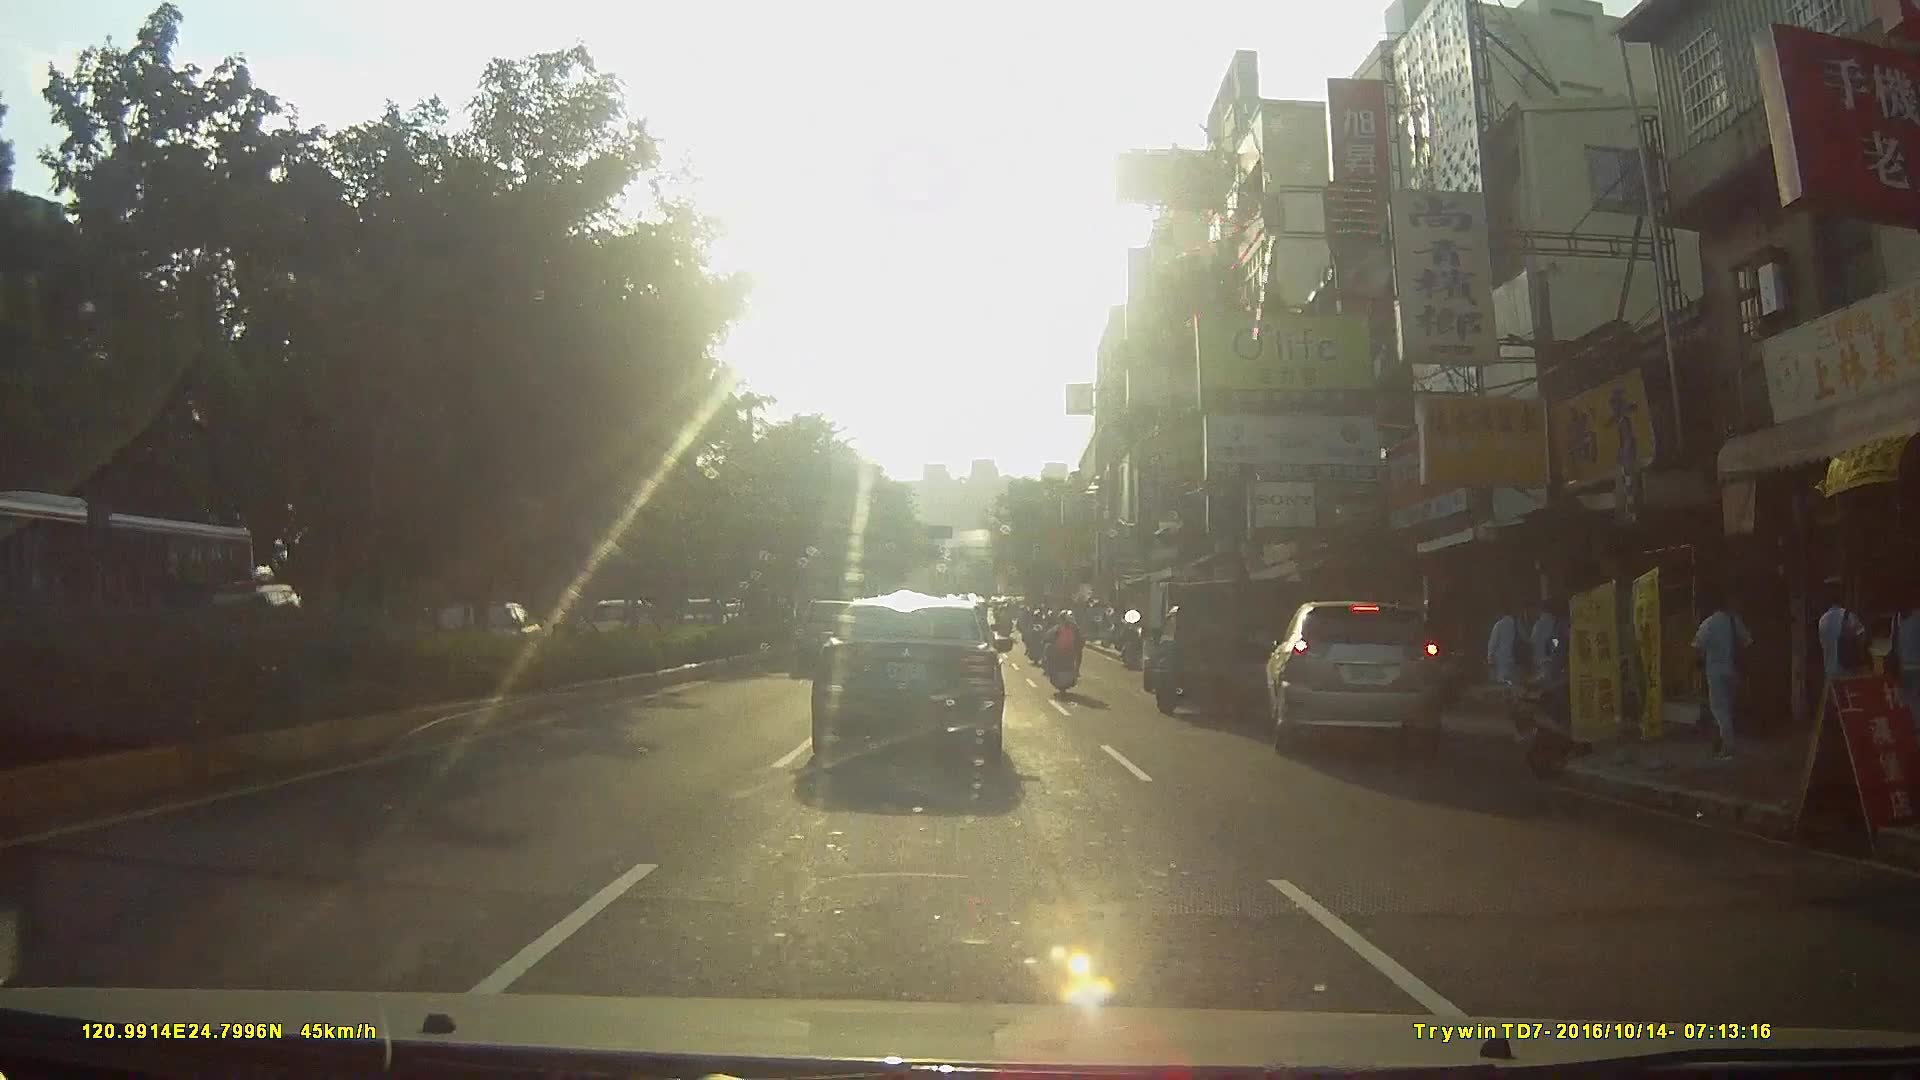pedestrian: (1692, 588, 1758, 767), (1819, 579, 1878, 777), (1484, 593, 1539, 721), (1883, 583, 1920, 766)
rider: (1042, 603, 1083, 697), (1024, 610, 1049, 664)
vehicle: (1, 496, 261, 669), (807, 593, 1025, 777), (1258, 592, 1470, 772), (1130, 571, 1277, 733)
